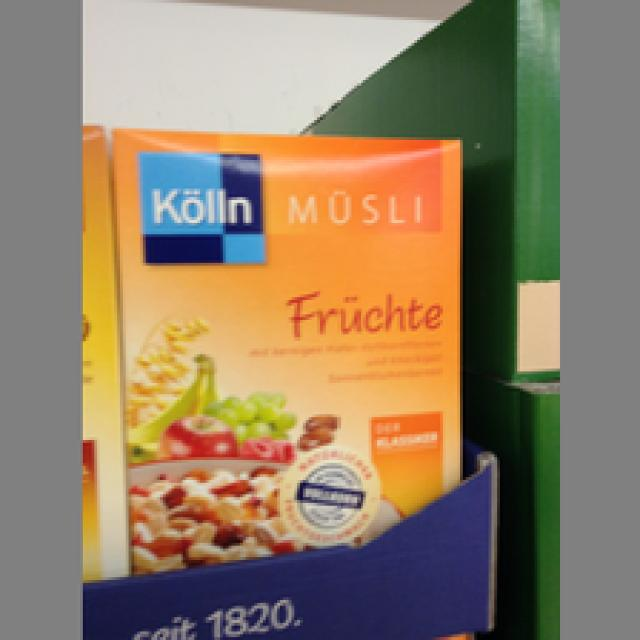groceries: (106, 123, 460, 574)
